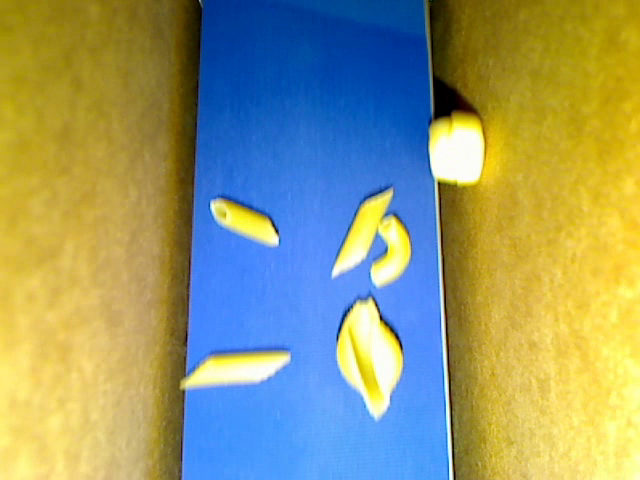elbow: (370, 213, 413, 285)
penne: (331, 185, 394, 278), (181, 352, 291, 387), (209, 197, 280, 248)
shell: (337, 294, 402, 421)
